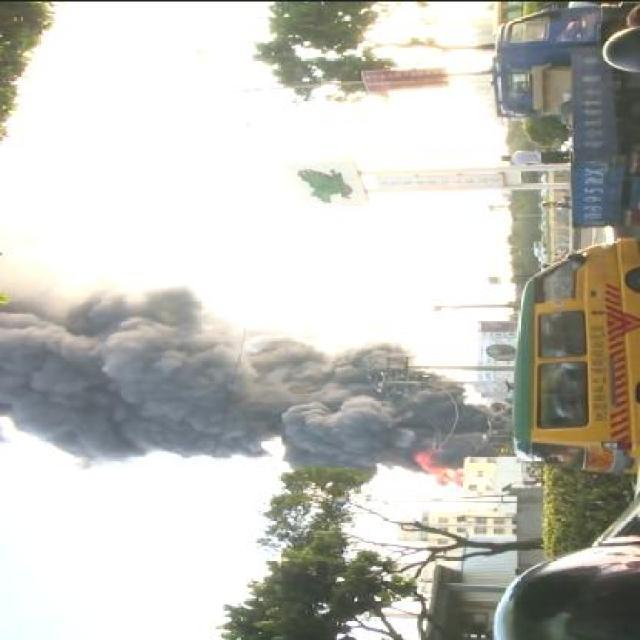Smoke: (0, 264, 514, 490)
